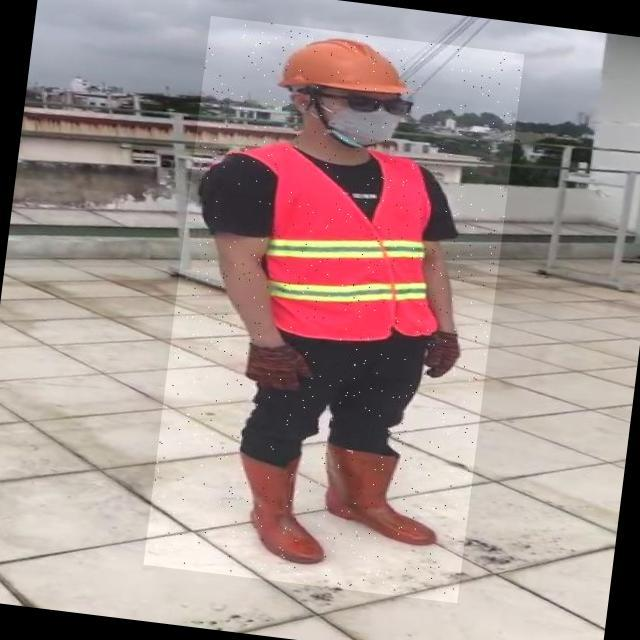Gloves: (240, 340, 315, 395), (428, 328, 464, 380)
Helmet: (267, 26, 423, 104)
Human: (143, 16, 524, 603)
Safety Boot: (318, 441, 446, 547), (227, 445, 336, 566)
Safety Vest: (248, 134, 455, 350)
